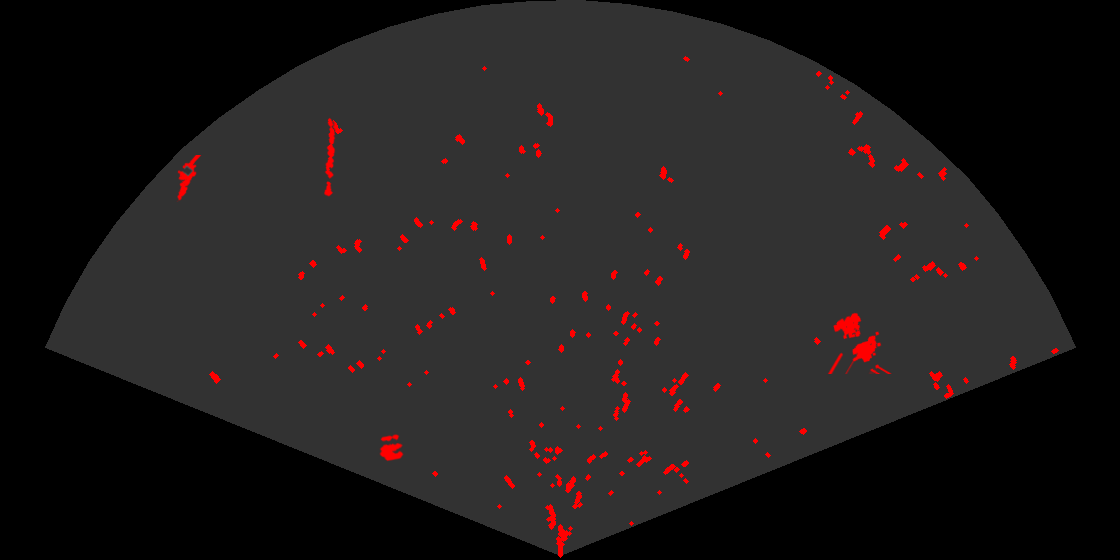ball: (378, 433, 405, 463)
cage: (826, 311, 893, 374)
chain: (323, 116, 337, 197)
frogman: (175, 155, 203, 202)
